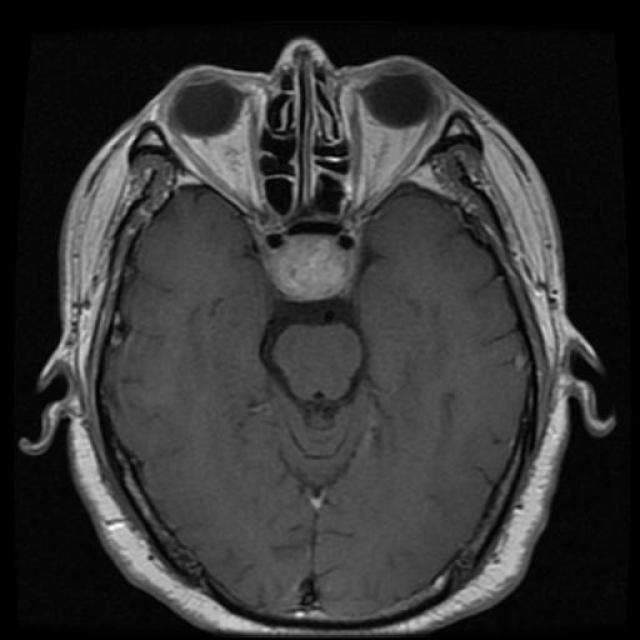pituitary: (223, 197, 383, 326)
